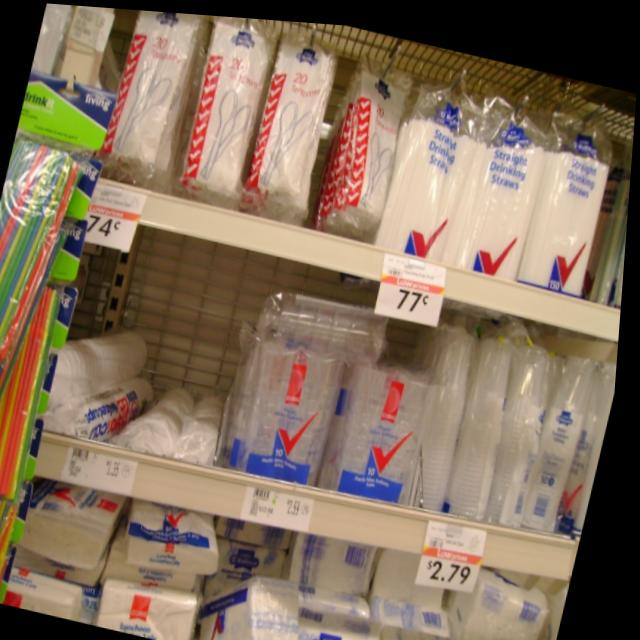q293: (296, 583, 397, 640), (390, 616, 499, 640), (486, 634, 562, 640)
